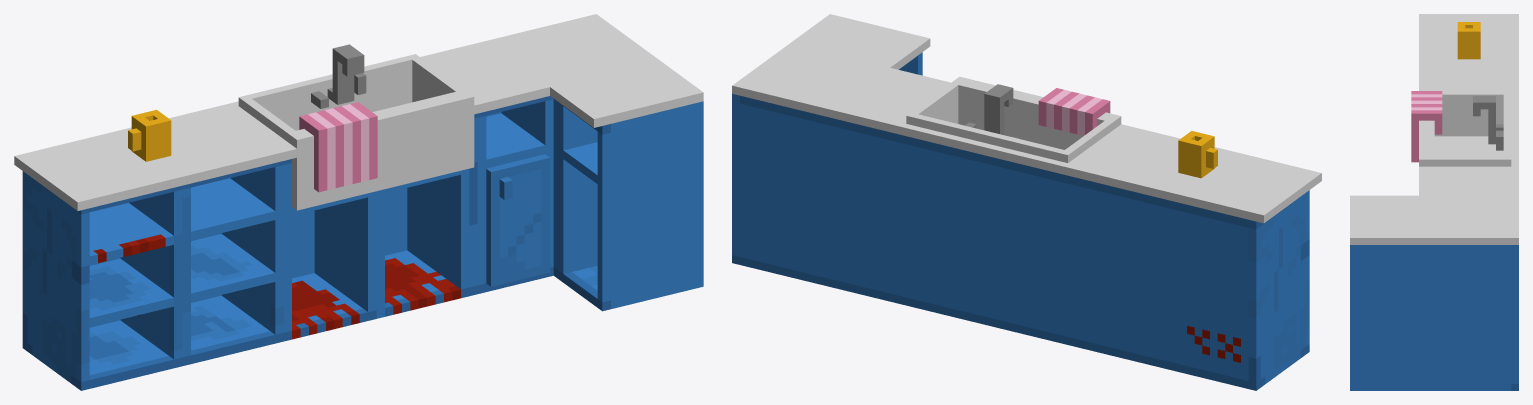
File: kitchen_drawers_base.obj
3 renders of one model, left to right at view 1: azimuth 30°, elevation 25°; view 2: azimuth 150°, elevation 25°; view 3: azimuth 270°, elevation 25°, orthographic. The views are drawn at different scales.
Size of the model in its own units: 6.9 by 2.7 by 2.2.
